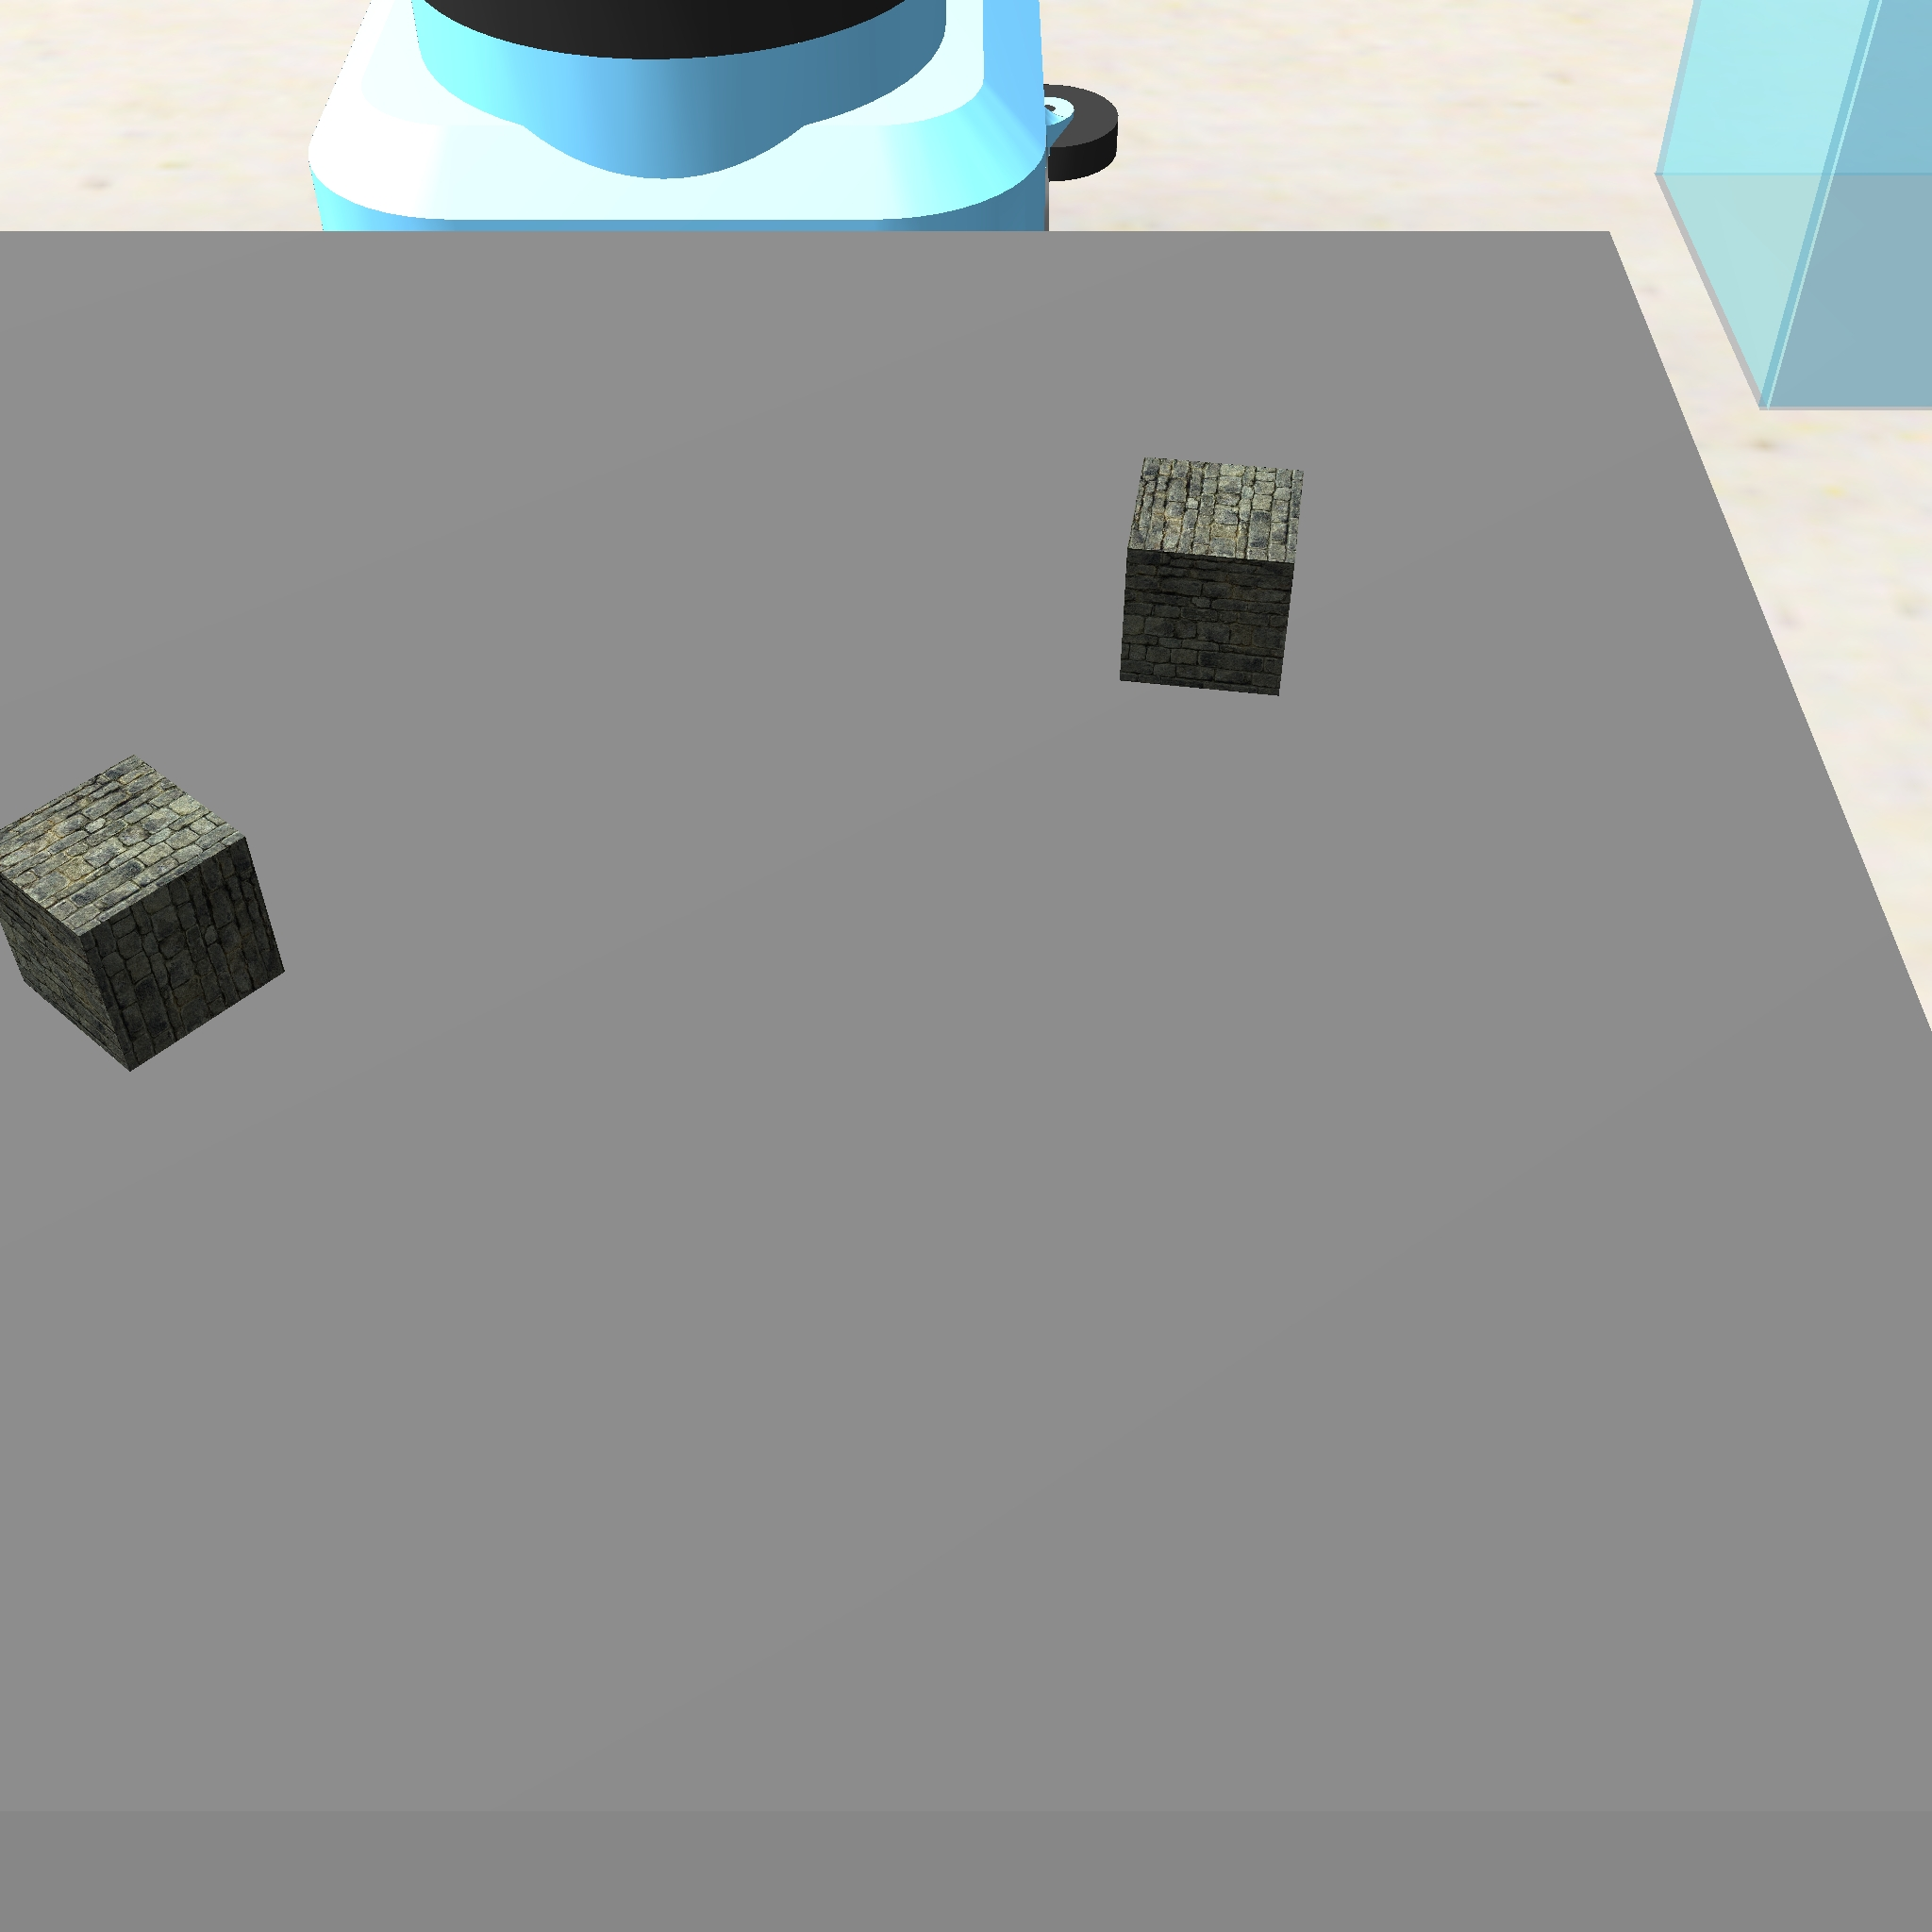cube: (2, 745, 294, 1081), (1113, 446, 1315, 708)
